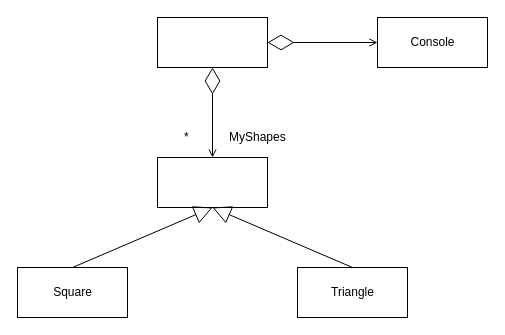
Some shapes in this 505 by 335 pixel diagram are drawn without their labels. The centre of each missing label's shape, as x and y in pixels:
"Manager" belongs at point (212, 42).
"Shape" belongs at point (212, 182).
